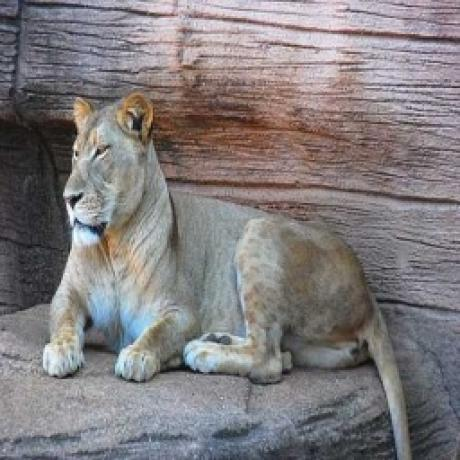Lion: (42, 90, 413, 460)
